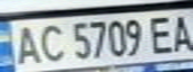0: (106, 16, 127, 57)
5: (66, 18, 90, 61)
7: (87, 17, 109, 59)
9: (124, 16, 148, 57)
A: (6, 21, 42, 68), (166, 11, 193, 53)
C: (33, 21, 66, 64)
E: (145, 12, 175, 55)
